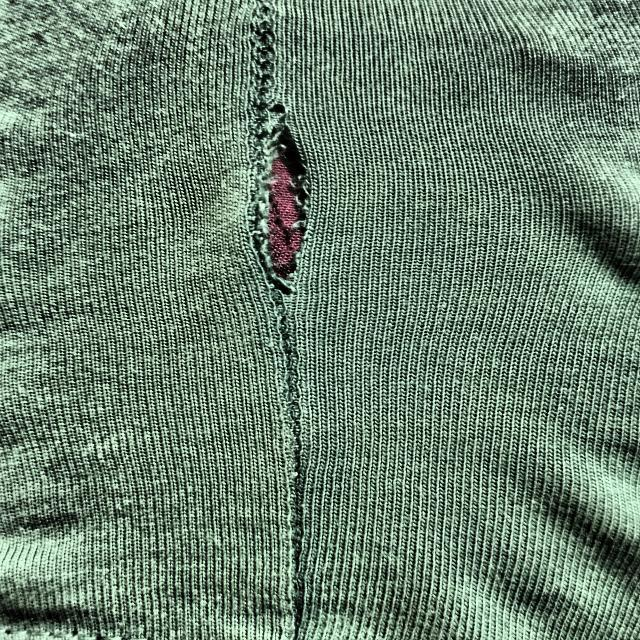seam: (213, 90, 345, 317)
